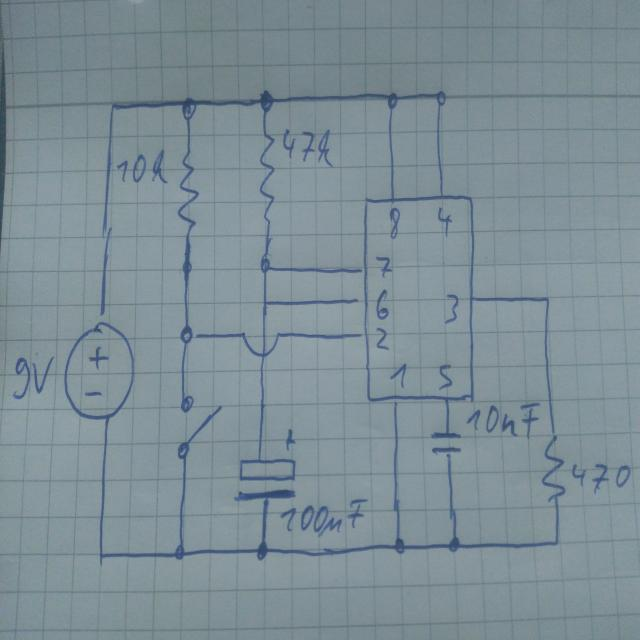capacitor: (234, 456, 302, 505), (428, 426, 464, 460)
crossover: (240, 325, 284, 361)
junction: (174, 319, 200, 353), (178, 91, 199, 123), (546, 528, 564, 556), (175, 257, 195, 281), (446, 532, 464, 558), (258, 90, 276, 114), (391, 532, 406, 558), (384, 90, 400, 114), (256, 253, 274, 274), (170, 543, 187, 563), (95, 546, 110, 568), (260, 294, 274, 316), (254, 540, 268, 560), (538, 293, 553, 309), (434, 91, 447, 108), (108, 98, 120, 116)
resistor: (540, 427, 569, 523), (175, 143, 203, 242), (254, 126, 280, 230)
source: (61, 317, 138, 423)
switch: (175, 392, 224, 464)
text: (278, 493, 368, 536), (467, 400, 545, 442), (281, 126, 338, 171), (6, 352, 56, 403), (569, 458, 632, 495), (114, 146, 169, 188), (437, 206, 452, 239), (389, 363, 407, 389), (444, 294, 459, 325), (375, 288, 389, 320), (388, 207, 401, 240), (438, 364, 453, 391), (375, 256, 393, 278), (376, 327, 390, 351)
